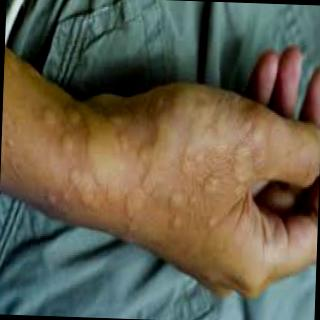urticaria: (34, 114, 250, 201)
